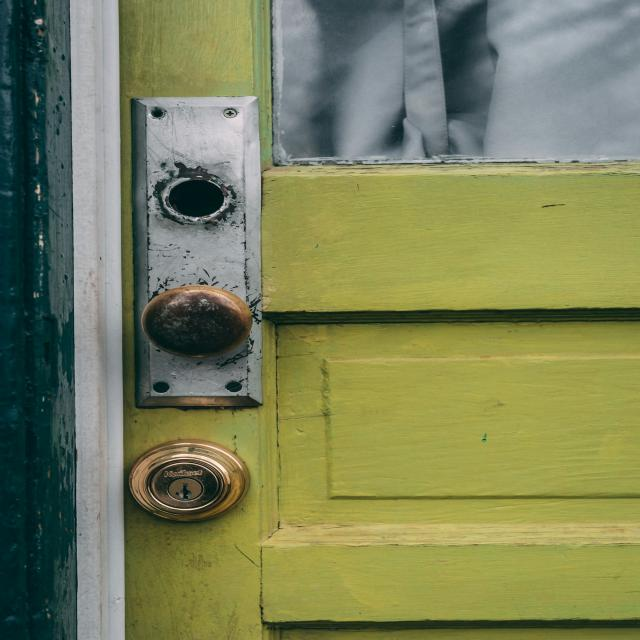door-knob: (141, 285, 253, 358)
